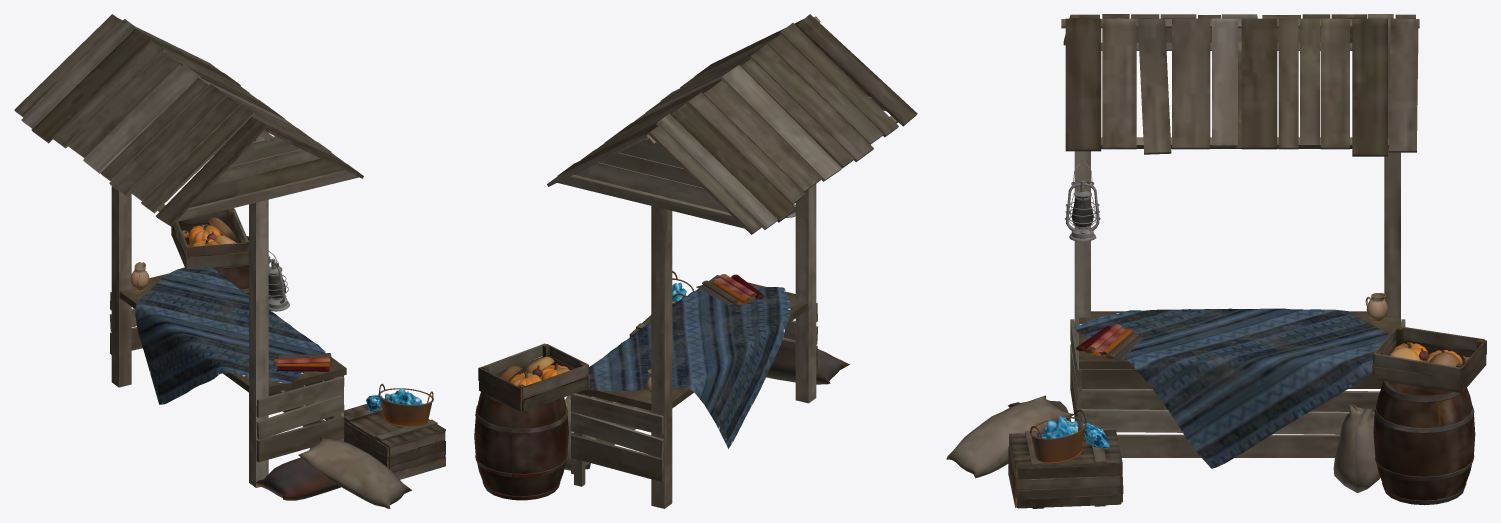
The model's file is SM_Market_Sphere_042f35.glb.
3 views of the same model, side by side, from view 1: azimuth 30°, elevation 25°; view 2: azimuth 150°, elevation 25°; view 3: azimuth 270°, elevation 25° (orthographic). The views are drawn at different scales.
Bounding box in the file's own units: 2.84 × 3.82 × 4.53.
Materials: 2 (2 with a texture image).
